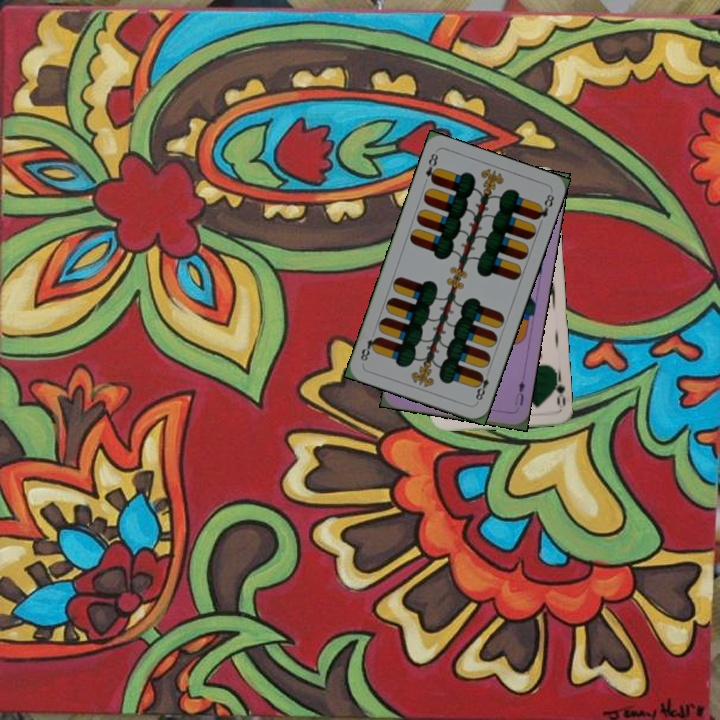E8: (471, 369, 492, 406), (421, 149, 441, 186)
EU: (510, 377, 527, 408)
GO: (548, 369, 568, 409)
